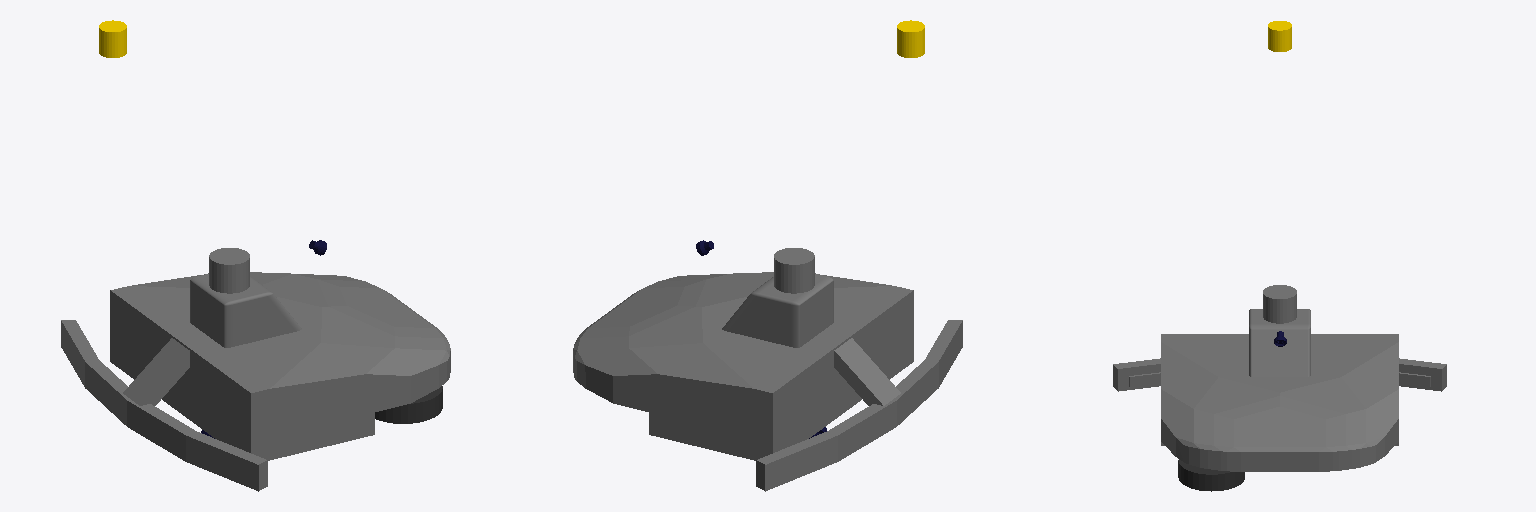
robot.urdf — my_robot:
<?xml version="1.0"?>
<robot name="my_robot">

  <!-- ═══════════════════════════════════════════════════════════ -->
  <!--  MATERIALS                                                   -->
  <!-- ═══════════════════════════════════════════════════════════ -->
  <material name="gray">
    <color rgba="0.5 0.5 0.5 1.0"/>
  </material>
  <material name="black">
    <color rgba="0.0 0.0 0.0 1.0"/>
  </material>
  <material name="dark_gray">
    <color rgba="0.25 0.25 0.25 1.0"/>
  </material>
  <material name="yellow">
    <color rgba="1.0 0.85 0.0 1.0"/>
  </material>
  <material name="midnight_blue">
    <color rgba="0.1 0.1 0.27 1.0"/>
  </material>

  <!-- ═══════════════════════════════════════════════════════════ -->
  <!--  BASE LINK	                                           -->
  <!-- ═══════════════════════════════════════════════════════════ -->
  <link name="base_link">
    <visual>
      <geometry>
        <mesh filename="package://my_robot_description/models/Oberteil.stl"/>
      </geometry>
      <origin xyz="0 -0.025 0" rpy="0 0 0"/>
      <material name="gray"/>
    </visual>
    <collision>
      <geometry>
        <box size="3.5 2.0 0.5"/>
      </geometry>
      <origin xyz="0 0 0.25" rpy="0 0 0"/>
    </collision>
    <inertial>
      <mass value="10.0"/>
      <origin xyz="0 0 0.25" rpy="0 0 0"/>
      <inertia ixx="0.347" ixy="0.0" ixz="0.0"
               iyy="1.042" iyz="0.0"
               izz="1.250"/>
    </inertial>
  </link>

  <!-- ═══════════════════════════════════════════════════════════ -->
  <!--  LEFT WHEEL                                                 -->
  <!-- ═══════════════════════════════════════════════════════════ -->
  <link name="base_wheel_left">
    <visual>
      <geometry>
        <mesh filename="package://my_robot_description/models/Rad_links.stl"/>
      </geometry>
      <origin xyz="0 0 0" rpy="0 0 0"/>
      <material name="black"/>
    </visual>
    <collision>
      <geometry>
        <sphere radius="0.12"/>
      </geometry>
      <origin xyz="0 0 0" rpy="1.5708 0 0"/>
    </collision>
    <inertial>
      <mass value="1.0"/>
      <origin xyz="0 0 0" rpy="0 0 0"/>
      <inertia ixx="0.019" ixy="0.0" ixz="0.0"
               iyy="0.019" iyz="0.0"
               izz="0.034"/>
    </inertial>
  </link>

  <!-- ═══════════════════════════════════════════════════════════ -->
  <!--  RIGHT WHEEL                                                -->
  <!-- ═══════════════════════════════════════════════════════════ -->
  <link name="base_wheel_right">
    <visual>
      <geometry>
        <mesh filename="package://my_robot_description/models/Rad_rechts.stl"/>
      </geometry>
      <origin xyz="0 0 0" rpy="0 0 0"/>
      <material name="black"/>
    </visual>
    <collision>
      <geometry>
        <sphere radius="0.12"/>
      </geometry>
      <origin xyz="0 0 0" rpy="1.5708 0 0"/>
    </collision>
    <inertial>
      <mass value="1.0"/>
      <origin xyz="0 0 0" rpy="0 0 0"/>
      <inertia ixx="0.019" ixy="0.0" ixz="0.0"
               iyy="0.019" iyz="0.0"
               izz="0.034"/>
    </inertial>
  </link>

  <!-- ═══════════════════════════════════════════════════════════ -->
  <!--  SMALL BASE 	                                           -->
  <!-- ═══════════════════════════════════════════════════════════ -->
  <link name="small_base">
    <visual>
      <geometry>
        <mesh filename="package://my_robot_description/models/Unterteil.stl"/>
      </geometry>
      <origin xyz="0 0 0" rpy="0 0 0"/>
      <material name="gray"/>
    </visual>
    <collision>
      <geometry>
        <box size="2.0 1.5 0.3"/>
      </geometry>
      <origin xyz="0 0 0" rpy="0 0 0"/>
    </collision>
    <inertial>
      <mass value="3.0"/>
      <origin xyz="0 0 0" rpy="0 0 0"/>
      <inertia ixx="0.188" ixy="0.0" ixz="0.0"
               iyy="0.250" iyz="0.0"
               izz="0.406"/>
    </inertial>
  </link>

  <!-- ═══════════════════════════════════════════════════════════ -->
  <!--  FRONT WHEEL                                                -->
  <!-- ═══════════════════════════════════════════════════════════ -->
  <link name="small_base_wheel_front">
    <visual>
      <geometry>
        <mesh filename="package://my_robot_description/models/Rad_vorne.stl"/>
      </geometry>
      <origin xyz="0 0 0" rpy="0 0 0"/>
      <material name="black"/>
    </visual>
    <collision>
      <geometry>
        <sphere radius="0.12"/>
      </geometry>
      <origin xyz="0 0 0" rpy="0 0 0"/>
    </collision>
    <inertial>
      <mass value="0.3"/>
      <origin xyz="0 0 0" rpy="0 0 0"/>
      <inertia ixx="0.002" ixy="0.0" ixz="0.0"
               iyy="0.002" iyz="0.0"
               izz="0.002"/>
    </inertial>
  </link>

  <!-- ═══════════════════════════════════════════════════════════ -->
  <!--  BRUSH LEFT                                                 -->
  <!-- ═══════════════════════════════════════════════════════════ -->
  <link name="small_base_brush_left">
    <visual>
      <geometry>
        <mesh filename="package://my_robot_description/models/Buerste_links.stl"/>
      </geometry>
      <origin xyz="0 0 0" rpy="0 0 0"/>
      <material name="dark_gray"/>
    </visual>
    <collision>
      <geometry>
        <cylinder radius="0.15" length="0.05"/>
      </geometry>
      <origin xyz="0 0 0" rpy="0 0 0"/>
    </collision>
    <inertial>
      <mass value="0.2"/>
      <origin xyz="0 0 0" rpy="0 0 0"/>
      <inertia ixx="0.001" ixy="0.0" ixz="0.0"
               iyy="0.001" iyz="0.0"
               izz="0.002"/>
    </inertial>
  </link>

  <!-- ═══════════════════════════════════════════════════════════ -->
  <!--  BRUSH RIGHT                                                -->
  <!-- ═══════════════════════════════════════════════════════════ -->
  <link name="small_base_brush_right">
    <visual>
      <geometry>
        <mesh filename="package://my_robot_description/models/Buerste_rechts.stl"/>
      </geometry>
      <origin xyz="0 0 0" rpy="0 0 0"/>
      <material name="dark_gray"/>
    </visual>
    <collision>
      <geometry>
        <cylinder radius="0.15" length="0.05"/>
      </geometry>
      <origin xyz="0 0 0" rpy="0 0 0"/>
    </collision>
    <inertial>
      <mass value="0.2"/>
      <origin xyz="0 0 0" rpy="0 0 0"/>
      <inertia ixx="0.001" ixy="0.0" ixz="0.0"
               iyy="0.001" iyz="0.0"
               izz="0.002"/>
    </inertial>
  </link>

  <!-- ═══════════════════════════════════════════════════════════ -->
  <!--  LIDAR	                                                   -->
  <!-- ═══════════════════════════════════════════════════════════ -->
  <link name="lidar">
    <visual>
      <geometry>
        <mesh filename="package://my_robot_description/models/Lidar.stl"/>
      </geometry>
      <origin xyz="0 0 0" rpy="0 0 0"/>
      <material name="yellow"/>
    </visual>
    <collision>
      <geometry>
        <cylinder radius="0.05" length="0.04"/>
      </geometry>
      <origin xyz="0 0 0" rpy="0 0 0"/>
    </collision>
    <inertial>
      <mass value="0.1"/>
      <origin xyz="0 0 0" rpy="0 0 0"/>
      <inertia ixx="0.0001" ixy="0.0" ixz="0.0"
               iyy="0.0001" iyz="0.0"
               izz="0.0001"/>
    </inertial>
  </link>

  <!-- ═══════════════════════════════════════════════════════════ -->
  <!--  CAMERA FRONT                                               -->
  <!-- ═══════════════════════════════════════════════════════════ -->
  <link name="camera_front">
    <visual>
      <geometry>
        <mesh filename="package://my_robot_description/models/Kamera_vorne.stl"/>
      </geometry>
      <origin xyz="0 -0.025 0" rpy="0 0 0"/>
      <material name="midnight_blue"/>
    </visual>
    <inertial>
      <mass value="0.05"/>
      <inertia ixx="0.001" ixy="0.0" ixz="0.0"
               iyy="0.001" iyz="0.0"
               izz="0.002"/>
    </inertial>
  </link>

  <!-- ═══════════════════════════════════════════════════════════ -->
  <!--  CAMERA FRONT FLOOR                                         -->
  <!-- ═══════════════════════════════════════════════════════════ -->
  <link name="camera_front_floor">
    <visual>
      <geometry>
        <mesh filename="package://my_robot_description/models/Kamera_vorne_unten.stl"/>
      </geometry>
      <origin xyz="0 -0.025 0" rpy="0 0 0"/>
      <material name="midnight_blue"/>
    </visual>
    <inertial>
      <mass value="0.05"/>
      <inertia ixx="0.001" ixy="0.0" ixz="0.0"
               iyy="0.001" iyz="0.0"
               izz="0.002"/>
    </inertial>
  </link>

  <!-- ═══════════════════════════════════════════════════════════ -->
  <!--  CAMERA LEFT                                                -->
  <!-- ═══════════════════════════════════════════════════════════ -->
  <link name="camera_left">
    <visual>
      <geometry>
        <mesh filename="package://my_robot_description/models/Kamera_links.stl"/>
      </geometry>
      <origin xyz="0 -0.025 0" rpy="0 0 0"/>
      <material name="midnight_blue"/>
    </visual>
    <inertial>
      <mass value="0.05"/>
      <inertia ixx="0.001" ixy="0.0" ixz="0.0"
               iyy="0.001" iyz="0.0"
               izz="0.002"/>
    </inertial>
  </link>

  <!-- ═══════════════════════════════════════════════════════════ -->
  <!--  CAMERA RIGHT                                               -->
  <!-- ═══════════════════════════════════════════════════════════ -->
  <link name="camera_right">
    <visual>
      <geometry>
        <mesh filename="package://my_robot_description/models/Kamera_rechts.stl"/>
      </geometry>
      <origin xyz="0 -0.025 0" rpy="0 0 0"/>
      <material name="midnight_blue"/>
    </visual>
    <inertial>
      <mass value="0.05"/>
      <inertia ixx="0.001" ixy="0.0" ixz="0.0"
               iyy="0.001" iyz="0.0"
               izz="0.002"/>
    </inertial>
  </link>

  <!-- ═══════════════════════════════════════════════════════════ -->
  <!--  CAMERA BACK                                               -->
  <!-- ═══════════════════════════════════════════════════════════ -->
  <link name="camera_back">
    <visual>
      <geometry>
        <mesh filename="package://my_robot_description/models/Kamera_hinten.stl"/>
      </geometry>
      <origin xyz="0 -0.025 0" rpy="0 0 0"/>
      <material name="midnight_blue"/>
    </visual>
    <inertial>
      <mass value="0.05"/>
      <inertia ixx="0.001" ixy="0.0" ixz="0.0"
               iyy="0.001" iyz="0.0"
               izz="0.002"/>
    </inertial>
  </link>

  <!-- ═══════════════════════════════════════════════════════════ -->
  <!--  CAMERA BACK FLOOR                                          -->
  <!-- ═══════════════════════════════════════════════════════════ -->
  <link name="camera_back_floor">
    <visual>
      <geometry>
        <mesh filename="package://my_robot_description/models/Kamera_hinten_unten.stl"/>
      </geometry>
      <origin xyz="0 -0.025 0" rpy="0 0 0"/>
      <material name="midnight_blue"/>
    </visual>
    <inertial>
      <mass value="0.05"/>
      <inertia ixx="0.001" ixy="0.0" ixz="0.0"
               iyy="0.001" iyz="0.0"
               izz="0.002"/>
    </inertial>
  </link>

  <!-- ═══════════════════════════════════════════════════════════ -->
  <!--  JOINTS 					                   -->
  <!-- ═══════════════════════════════════════════════════════════ -->
  <joint name="wheel_left_to_base" type="continuous">
    <parent link="base_link"/>
    <child link="base_wheel_left"/>
    <origin xyz="-1.59 0.65 0.26" rpy="0 0 0"/>
    <axis xyz="0 1 0"/>
  </joint>

  <joint name="wheel_right_to_base" type="continuous">
    <parent link="base_link"/>
    <child link="base_wheel_right"/>
    <origin xyz="-1.59 -0.65 0.26" rpy="0 0 0"/>
    <axis xyz="0 1 0"/>
  </joint>

  <joint name="small_base_to_base" type="revolute">
    <parent link="base_link"/>
    <child link="small_base"/>
    <origin xyz="0.15 0 1.3" rpy="0 0 0"/>
    <axis xyz="0 0 1"/>
    <limit lower="-0.5" upper="0.5" effort="10.0" velocity="1.0"/>
  </joint>

  <joint name="wheel_front_to_small_base" type="continuous">
    <parent link="small_base"/>
    <child link="small_base_wheel_front"/>
    <origin xyz="-0.12 0 -1.04" rpy="0 0 0"/>
    <axis xyz="0 1 0"/>
  </joint>

  <joint name="brush_left_to_small_base" type="continuous">
    <parent link="small_base"/>
    <child link="small_base_brush_left"/>
    <origin xyz="1.05 0.55 -0.925" rpy="0 0 0"/>
    <axis xyz="0 0 1"/>
  </joint>

  <joint name="brush_right_to_small_base" type="continuous">
    <parent link="small_base"/>
    <child link="small_base_brush_right"/>
    <origin xyz="1.05 -0.55 -0.925" rpy="0 0 0"/>
    <axis xyz="0 0 1"/>
  </joint>

  <joint name="lidar_to_base" type="fixed">
    <parent link="base_link"/>
    <child link="lidar"/>
    <origin xyz="-0.77 0 3.05" rpy="0 0 0"/>
  </joint>

  <joint name="camera_front_to_base" type="fixed">
    <parent link="base_link"/>
    <child link="camera_front"/>
    <origin xyz="0 0 0" rpy="0 0 0"/>
  </joint>

  <joint name="camera_front_floor_to_base" type="fixed">
    <parent link="base_link"/>
    <child link="camera_front_floor"/>
    <origin xyz="0 0 0" rpy="0 0 0"/>
  </joint>

  <joint name="camera_left_to_base" type="fixed">
    <parent link="base_link"/>
    <child link="camera_left"/>
    <origin xyz="0 0 0" rpy="0 0 0"/>
  </joint>

  <joint name="camera_right_to_base" type="fixed">
    <parent link="base_link"/>
    <child link="camera_right"/>
    <origin xyz="0 0 0" rpy="0 0 0"/>
  </joint>

  <joint name="camera_back_to_base" type="fixed">
    <parent link="base_link"/>
    <child link="camera_back"/>
    <origin xyz="0 0 0" rpy="0 0 0"/>
  </joint>

  <joint name="camera_back_floor_to_base" type="fixed">
    <parent link="base_link"/>
    <child link="camera_back_floor"/>
    <origin xyz="0 0 0" rpy="0 0 0"/>
  </joint>

  <!-- ═══════════════════════════════════════════════════════════ -->
  <!--  GAZEBO PLUGINS                                             -->
  <!-- ═══════════════════════════════════════════════════════════ -->

  <!-- Differential Drive Antrieb -->
  <!-- HINWEIS: Rad-Separation und Radius an dein Modell anpassen! -->
  <!-- wheel_separation = Abstand der beiden Antriebsräder (y-Achse): 2 × 0.65 = 1.3 -->
  <!-- wheel_radius = aus deiner URDF geschätzt: ~0.26                                -->
  <gazebo>
    <plugin filename="gz-sim-diff-drive-system"
            name="gz::sim::systems::DiffDrive">
      <left_joint>wheel_left_to_base</left_joint>
      <right_joint>wheel_right_to_base</right_joint>
      <wheel_separation>1.3</wheel_separation>
      <wheel_radius>0.26</wheel_radius>
      <odom_publish_frequency>50</odom_publish_frequency>
      <!-- Topic-Namen werden beim Spawnen per Namespace überschrieben -->
      <topic>/cmd_vel</topic>
      <odom_topic>/odom</odom_topic>
      <tf_topic>/tf</tf_topic>
      <frame_id>odom</frame_id>
      <child_frame_id>base_link</child_frame_id>
    </plugin>
  </gazebo>

  <!-- ═══════════════════════════════════════════════════════════ -->
  <!--  JOINT STATE PUBLISHER GAZEBO                               -->
  <!-- ═══════════════════════════════════════════════════════════ -->
  <gazebo>
    <plugin filename="gz-sim-joint-state-publisher-system"
            name="gz::sim::systems::JointStatePublisher">
      <topic>/joint_states</topic>
    </plugin>
  </gazebo>

  <!-- ═══════════════════════════════════════════════════════════ -->
  <!--  LIDAR GAZEBO                                               -->
  <!-- ═══════════════════════════════════════════════════════════ -->
  <gazebo reference="lidar">
    <sensor name="lidar" type="gpu_lidar">
      <topic>/scan</topic>
      <update_rate>10</update_rate>
      <lidar>
        <scan>
          <horizontal>
            <samples>360</samples>
            <resolution>1</resolution>
            <min_angle>-3.14159</min_angle>
            <max_angle>3.14159</max_angle>
          </horizontal>
        </scan>
        <range>
          <min>0.15</min>
          <max>12.0</max>
          <resolution>0.01</resolution>
        </range>
        <noise>
          <type>gaussian</type>
          <mean>0.0</mean>
          <stddev>0.01</stddev>
        </noise>
      </lidar>
      <always_on>true</always_on>
      <visualize>true</visualize>
    </sensor>
  </gazebo>

  <!-- ═══════════════════════════════════════════════════════════ -->
  <!--  CAMERA FRONT GAZEBO                                        -->
  <!-- ═══════════════════════════════════════════════════════════ -->
  <gazebo reference="camera_front">
    <sensor name="camera_front" type="rgbd_camera">
      <topic>/camera/front</topic>
      <update_rate>30</update_rate>
      <camera>
        <horizontal_fov>1.047</horizontal_fov>
        <image>
          <width>640</width>
          <height>480</height>
        </image>
        <clip><near>0.1</near><far>10.0</far></clip>
      </camera>
      <always_on>true</always_on>
      <visualize>true</visualize>
    </sensor>
  </gazebo>

  <!-- ═══════════════════════════════════════════════════════════ -->
  <!--  CAMERA FRONT FLOOR GAZEBO                                  -->
  <!-- ═══════════════════════════════════════════════════════════ -->
  <gazebo reference="camera_front_floor">
    <sensor name="camera_front_floor" type="rgbd_camera">
      <topic>/camera/front/floor</topic>
      <update_rate>30</update_rate>
      <camera>
        <horizontal_fov>1.047</horizontal_fov>
        <image>
          <width>640</width>
          <height>480</height>
        </image>
        <clip><near>0.1</near><far>10.0</far></clip>
      </camera>
      <always_on>true</always_on>
      <visualize>true</visualize>
    </sensor>
  </gazebo>

  <!-- ═══════════════════════════════════════════════════════════ -->
  <!--  CAMERA LEFT GAZEBO                                         -->
  <!-- ═══════════════════════════════════════════════════════════ -->
  <gazebo reference="camera_left">
    <sensor name="camera_left" type="rgbd_camera">
      <topic>/camera/left</topic>
      <update_rate>30</update_rate>
      <camera>
        <horizontal_fov>1.047</horizontal_fov>
        <image>
          <width>640</width>
          <height>480</height>
        </image>
        <clip><near>0.1</near><far>10.0</far></clip>
      </camera>
      <always_on>true</always_on>
      <visualize>true</visualize>
    </sensor>
  </gazebo>

  <!-- ═══════════════════════════════════════════════════════════ -->
  <!--  CAMERA RIGHT GAZEBO                                        -->
  <!-- ═══════════════════════════════════════════════════════════ -->
  <gazebo reference="camera_right">
    <sensor name="camera_right" type="rgbd_camera">
      <topic>/camera/right</topic>
      <update_rate>30</update_rate>
      <camera>
        <horizontal_fov>1.047</horizontal_fov>
        <image>
          <width>640</width>
          <height>480</height>
        </image>
        <clip><near>0.1</near><far>10.0</far></clip>
      </camera>
      <always_on>true</always_on>
      <visualize>true</visualize>
    </sensor>
  </gazebo>

  <!-- ═══════════════════════════════════════════════════════════ -->
  <!--  CAMERA BACK GAZEBO                                  -->
  <!-- ═══════════════════════════════════════════════════════════ -->
  <gazebo reference="camera_back">
    <sensor name="camera_back" type="rgbd_camera">
      <topic>/camera/back</topic>
      <update_rate>30</update_rate>
      <camera>
        <horizontal_fov>1.047</horizontal_fov>
        <image>
          <width>640</width>
          <height>480</height>
        </image>
        <clip><near>0.1</near><far>10.0</far></clip>
      </camera>
      <always_on>true</always_on>
      <visualize>true</visualize>
    </sensor>
  </gazebo>

  <!-- ═══════════════════════════════════════════════════════════ -->
  <!--  CAMERA BACK FLOOR GAZEBO                                   -->
  <!-- ═══════════════════════════════════════════════════════════ -->
  <gazebo reference="camera_back_floor">
    <sensor name="camera_back_floor" type="rgbd_camera">
      <topic>/camera/back/floor</topic>
      <update_rate>30</update_rate>
      <camera>
        <horizontal_fov>1.047</horizontal_fov>
        <image>
          <width>640</width>
          <height>480</height>
        </image>
        <clip><near>0.1</near><far>10.0</far></clip>
      </camera>
      <always_on>true</always_on>
      <visualize>true</visualize>
    </sensor>
  </gazebo>

  <!-- ═══════════════════════════════════════════════════════════ -->
  <!--  GAZEBO COLOR                                               -->
  <!-- ═══════════════════════════════════════════════════════════ -->
  <gazebo reference="base_link">
    <material>Gazebo/Gray</material>
  </gazebo>
  <gazebo reference="base_wheel_left">
    <material>Gazebo/DarkGray</material>
    <mu1>1.0</mu1>
    <mu2>1.0</mu2>
  </gazebo>
  <gazebo reference="base_wheel_right">
    <material>Gazebo/DarkGray</material>
    <mu1>1.0</mu1>
    <mu2>1.0</mu2>
  </gazebo>
  <gazebo reference="small_base_wheel_front">
    <material>Gazebo/DarkGray</material>
    <mu1>0.1</mu1>
    <mu2>0.1</mu2>
  </gazebo>
  <gazebo reference="small_base">
    <material>Gazebo/Gray</material>
  </gazebo>
  <gazebo reference="base_lidar">
    <material>Gazebo/Black</material>
  </gazebo>

</robot>

--- What the picture shows (computed from the rendered views, not written in the file) ---
Views: 3 orthographic renders of the robot side by side, from view 1: azimuth 30°, elevation 25°; view 2: azimuth 150°, elevation 25°; view 3: azimuth 270°, elevation 25°.
Model my_robot with 14 links and 13 joints (1 revolute, 5 continuous, 7 fixed), rooted at base_link, posed every joint at zero.
Visible links, largest first — view 1: small_base, small_base_brush_right, lidar; view 2: small_base, lidar; view 3: small_base, small_base_brush_right, lidar.
Link boxes in pixels (<box>): small_base: <box>61,248,450,491</box>; small_base_brush_right: <box>375,386,442,423</box>; lidar: <box>99,20,126,57</box>; small_base: <box>573,248,962,491</box>; lidar: <box>897,20,924,57</box>; small_base: <box>1113,285,1446,471</box>; small_base_brush_right: <box>1178,459,1244,491</box>; lidar: <box>1268,21,1291,51</box>.
Size in the robot's own frame: 2.47 by 2.69 by 3.3 metres.
Meshes: 14 distinct files referenced, 10 mesh visuals loaded (10 binary STL); not drawn: 4 (reference not matched to a file when rendering).
